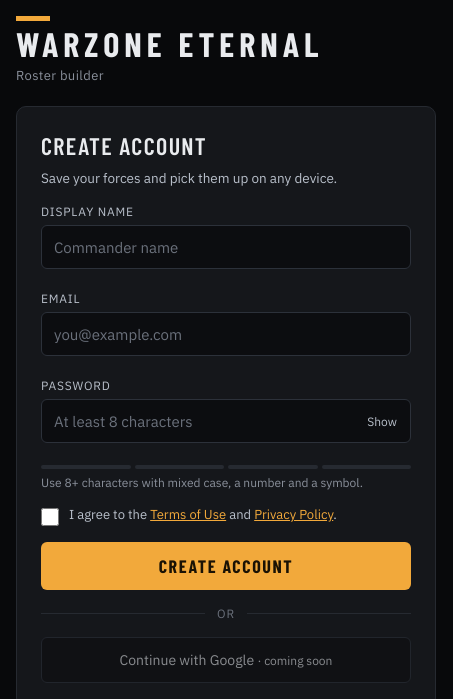
Scenario: sign up › requires every field and the terms
What coordinates should you click on to do the following:
click the button "Create account"
I would click on:
 (226, 566)
Its box is [41, 542, 411, 590].
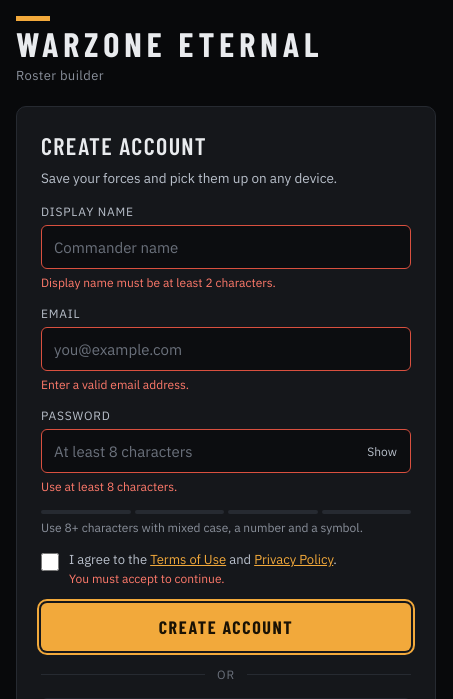
Now the text "Display name must be at least 2 characters." is shown, box [41, 275, 276, 290]
Now the text "Use at least 8 characters." is shown, box [41, 479, 177, 494]
Now the text "You must accept to continue." is shown, box [69, 571, 224, 586]
